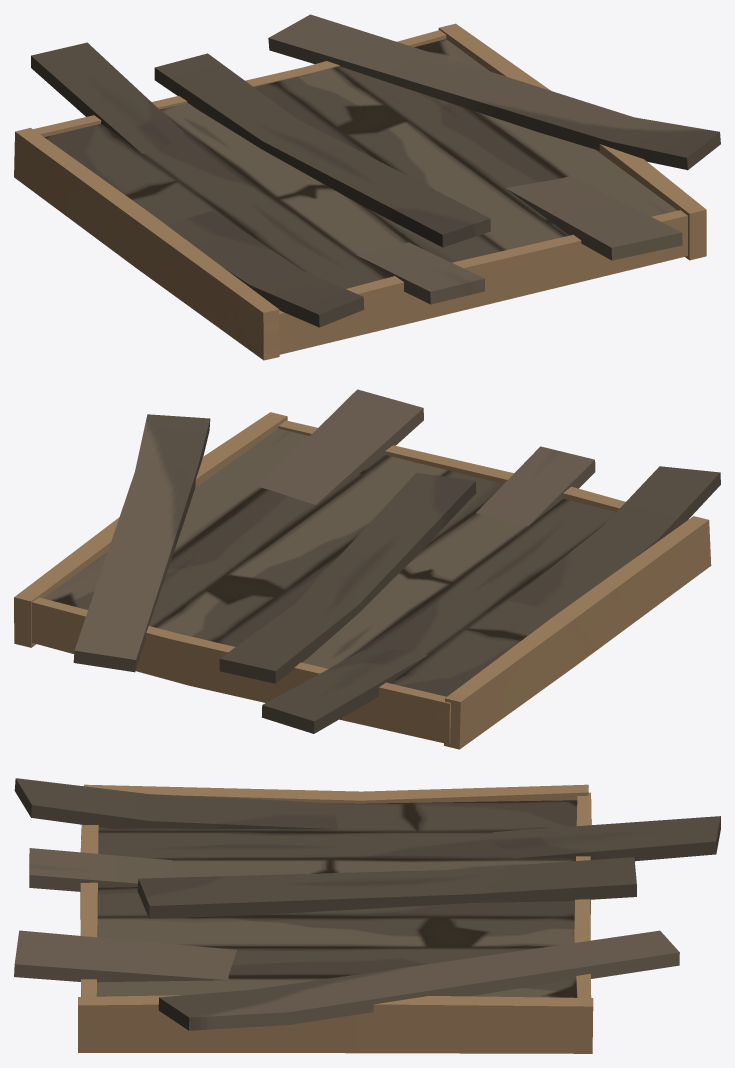
Rendered from SM_Bld_Dock_Damaged_01.fbx.
3 renders of one model, top to bottom at view 1: azimuth 30°, elevation 25°; view 2: azimuth 150°, elevation 25°; view 3: azimuth 270°, elevation 25°, orthographic.
Visible parts, largest first — view 1: SM_Bld_Dock_Damaged_01; view 2: SM_Bld_Dock_Damaged_01; view 3: SM_Bld_Dock_Damaged_01.
Boxes of the visible parts, box(x1,y1,x2,y2) form: SM_Bld_Dock_Damaged_01: box(14, 14, 720, 360); SM_Bld_Dock_Damaged_01: box(14, 389, 720, 749); SM_Bld_Dock_Damaged_01: box(14, 778, 720, 1053).
Size of the model in its own units: 302 by 40.53 by 357.
